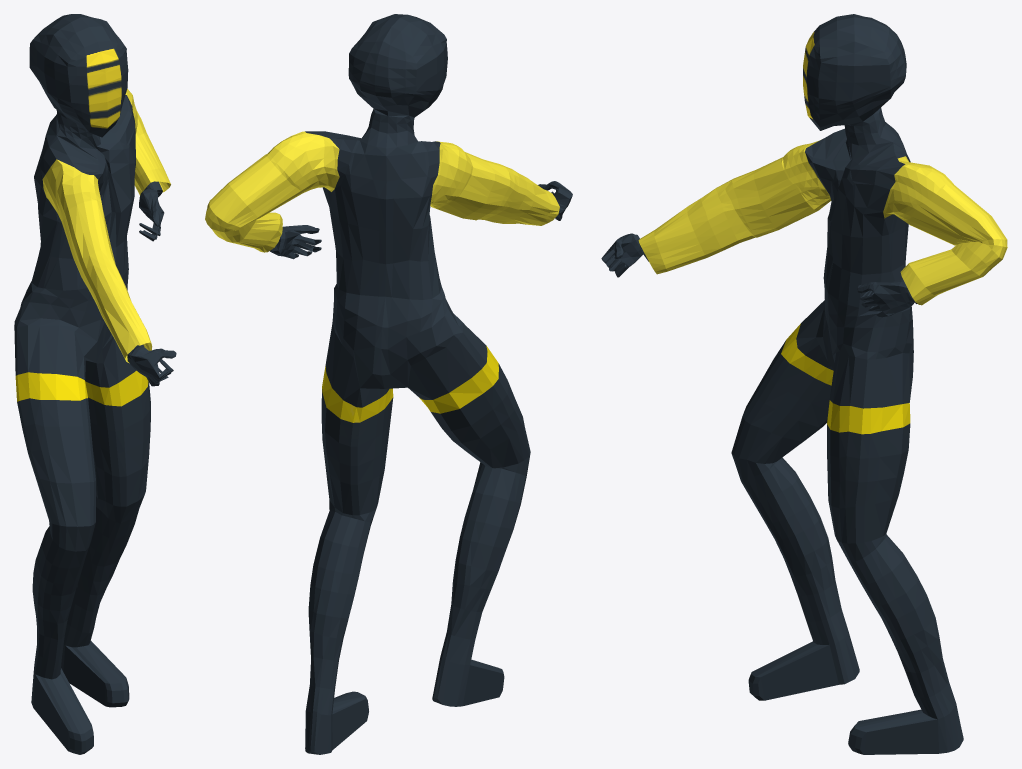
Rendered from Sentry_WF_000018.obj.
The picture shows the model from 3 angles, left to right: view 1: azimuth 30°, elevation 25°; view 2: azimuth 150°, elevation 25°; view 3: azimuth 270°, elevation 25°; orthographic projection.
Parts seen in each view (by area): view 1: Cube; view 2: Cube; view 3: Cube.
Boxes of the visible parts, x1=… form: Cube: x1=14, y1=14, x2=176, y2=754; Cube: x1=205, y1=14, x2=572, y2=754; Cube: x1=601, y1=14, x2=1007, y2=754.
Bounding box in the file's own units: 1.18 × 3.84 × 1.98.
